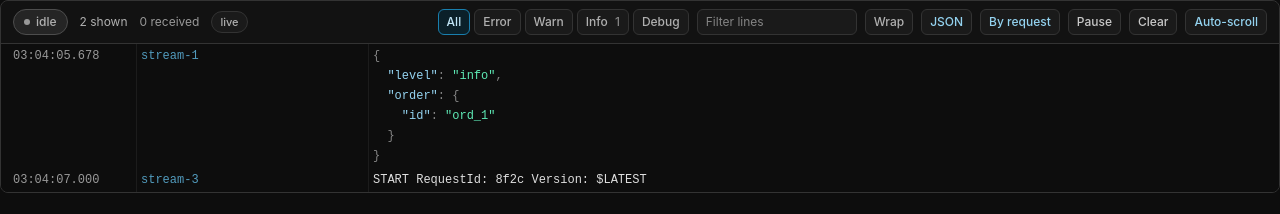
Test: LogViewer expandable JSON lines › shows a line as JSON when clicked, and closes it when clicked again
Click the button with test id "json-toggle" at (947, 22), box top-left (921, 9), bottom-right (972, 35)
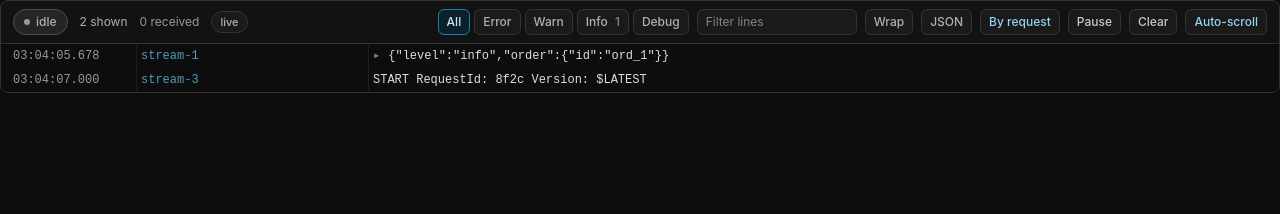
expect the button with test id "log-line" is collapsed: met
Click the button with test id "log-line" that starts with "stream-1" at (56, 56), box top-left (13, 49), bottom-right (669, 63)
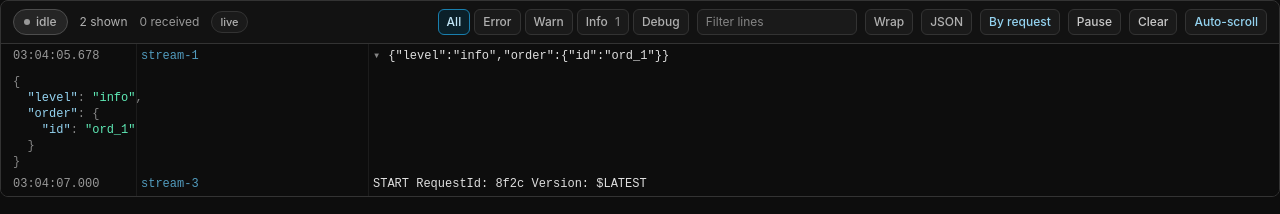
expect the text with test id "log-message" reads "{\"level\":\"info\",\"order\":{\"id\":\"ord_1\"}}": met, box top-left (388, 49), bottom-right (669, 63)
expect the button with test id "log-line" is expanded: met
Click the button with test id "log-line" that starts with "stream-1" at (56, 56), box top-left (13, 49), bottom-right (669, 169)
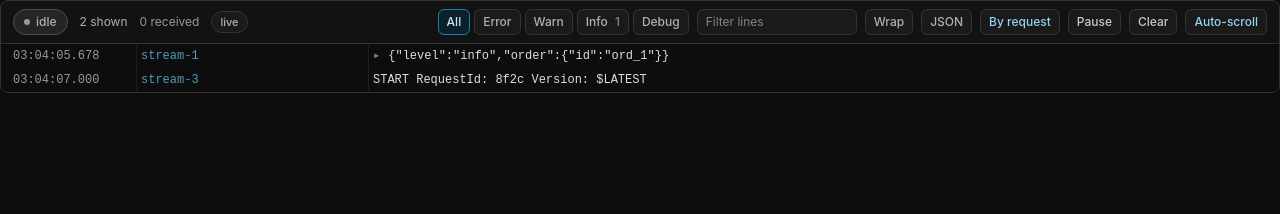
expect the element with test id "log-json-expanded" is gone: met
expect the button with test id "log-line" is collapsed: met, box top-left (13, 49), bottom-right (669, 63)
